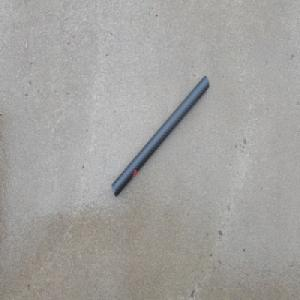LuggagePart: (111, 74, 210, 197)
